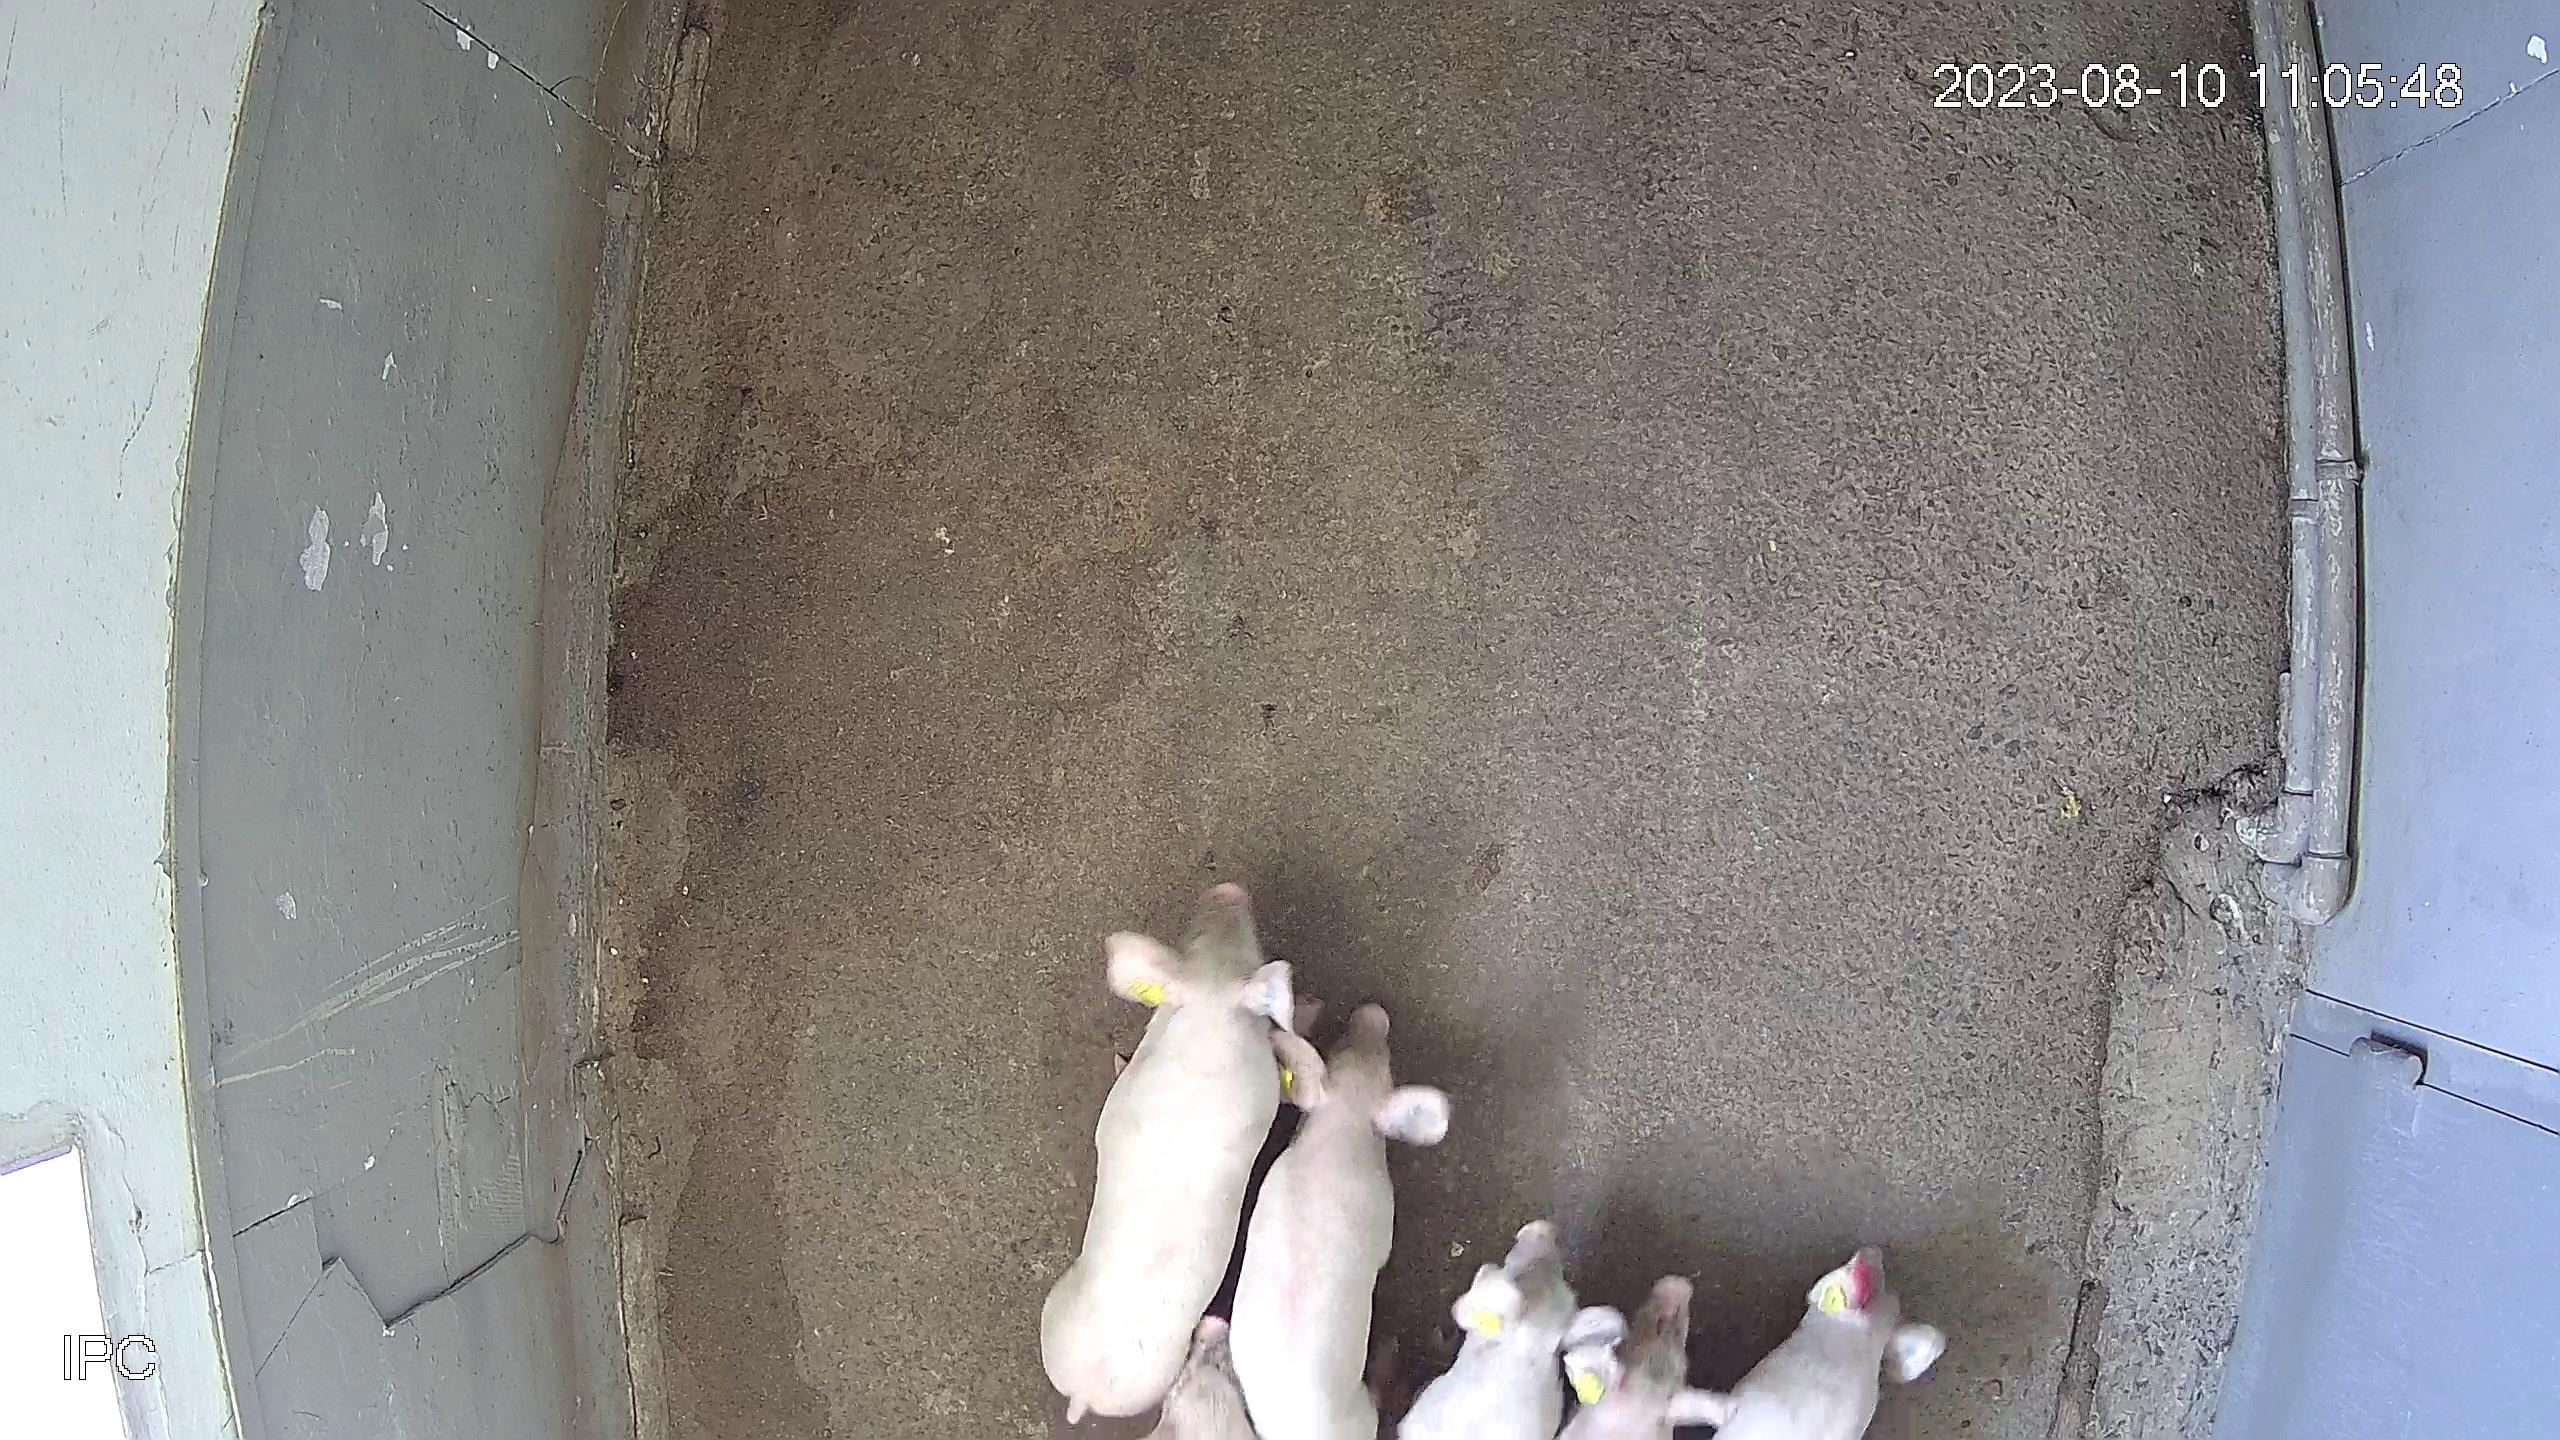Pig: (1041, 883, 1294, 1424), (1231, 1002, 1451, 1440), (1400, 1220, 1626, 1440), (1718, 1247, 1948, 1440), (1560, 1276, 1741, 1440), (1146, 1317, 1257, 1440), (1683, 1394, 1737, 1426)
